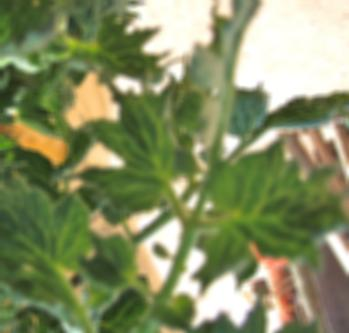Tomato leaf mosaic virus: (182, 146, 343, 289), (96, 97, 194, 210), (0, 179, 93, 282), (80, 14, 169, 78), (0, 131, 69, 201), (260, 80, 346, 133), (0, 0, 39, 55)
